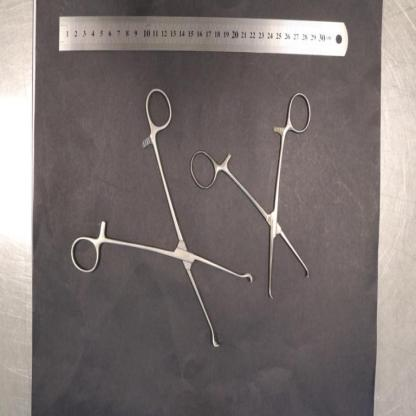8 Babcock Tissue Forceps: (69, 86, 253, 348)
Allis Tissue Forceps: (189, 90, 313, 302)
